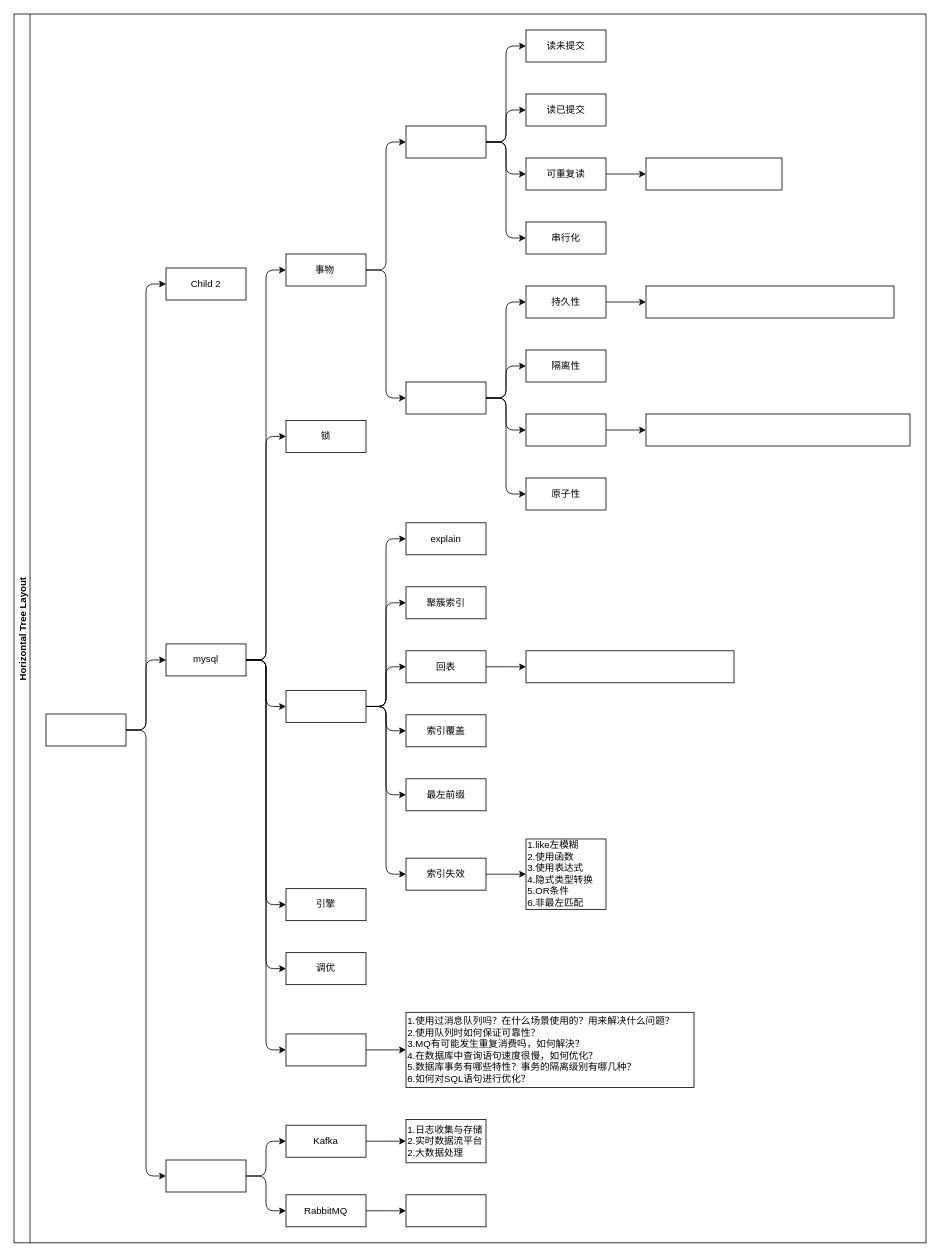
Image size: 940x1257. Some labels were removed from this diagram. Here are the shapes that lost their labels. From the top down, the centre of each, then its label:
At [445,141]: "隔离级别".
At [713,173]: "mysql的innodb默认事务级别".
At [769,301]: "没有100%的持久性，不然为什么会需要数据库备份呢？".
At [445,397]: "ACID".
At [565,429]: "一致性".
At [777,429]: "事物未提交时系统崩溃，所做修改也不会被保存到数据库中".
At [629,666]: "使用二级索引查询非索引字段，需要回表".
At [325,706]: "索引".
At [85,729]: "java".
At [325,1049]: "面试".
At [205,1175]: "消息中间件".
At [445,1210]: "1.移步通信 2.消息通知".
